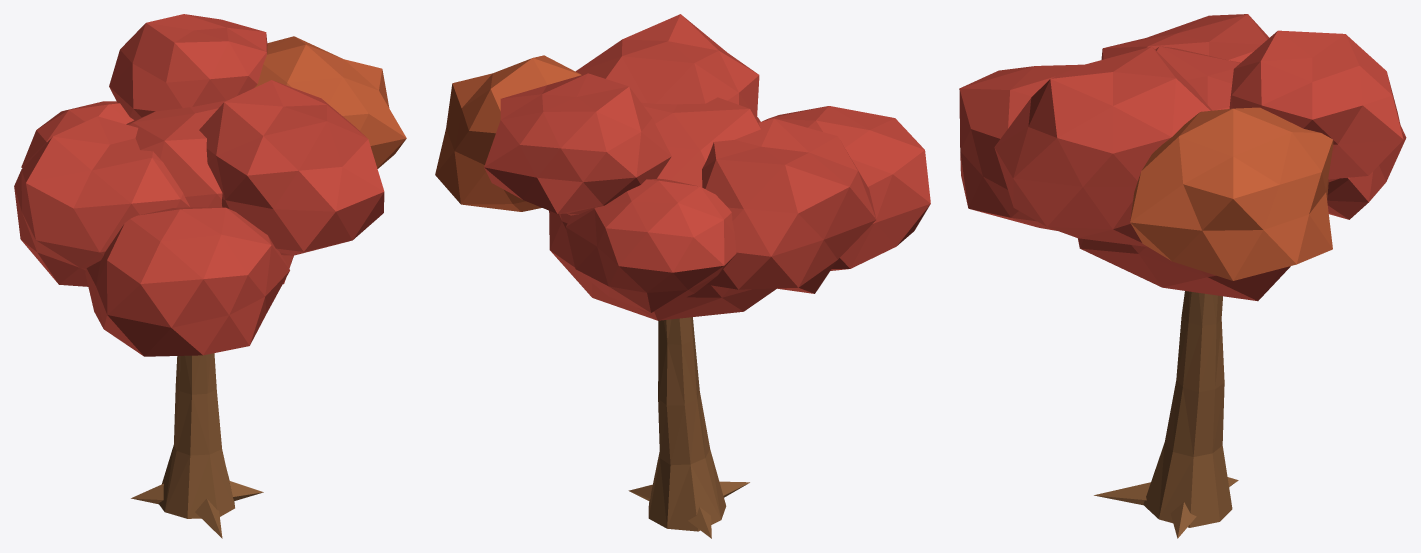
The model's file is HS_LP_Tree_Maple_01.fbx.
3 renders of one model, left to right at view 1: azimuth 30°, elevation 25°; view 2: azimuth 150°, elevation 25°; view 3: azimuth 270°, elevation 25°, orthographic. The views are drawn at different scales.
Parts seen in each view (by area): view 1: HS_LP_Tree_Maple_01; view 2: HS_LP_Tree_Maple_01; view 3: HS_LP_Tree_Maple_01.
Boxes of the visible parts, <box> form: HS_LP_Tree_Maple_01: <box>14,14,406,538</box>; HS_LP_Tree_Maple_01: <box>435,14,930,538</box>; HS_LP_Tree_Maple_01: <box>959,14,1406,538</box>.
Size of the model in its own units: 470 by 515 by 426.
